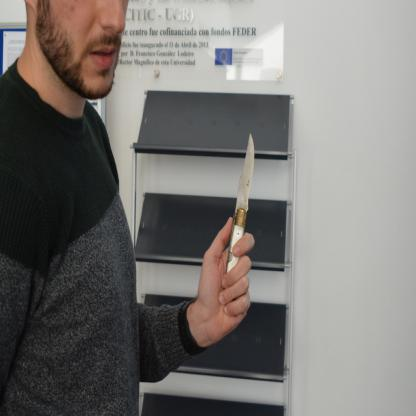knife: (220, 127, 260, 283)
